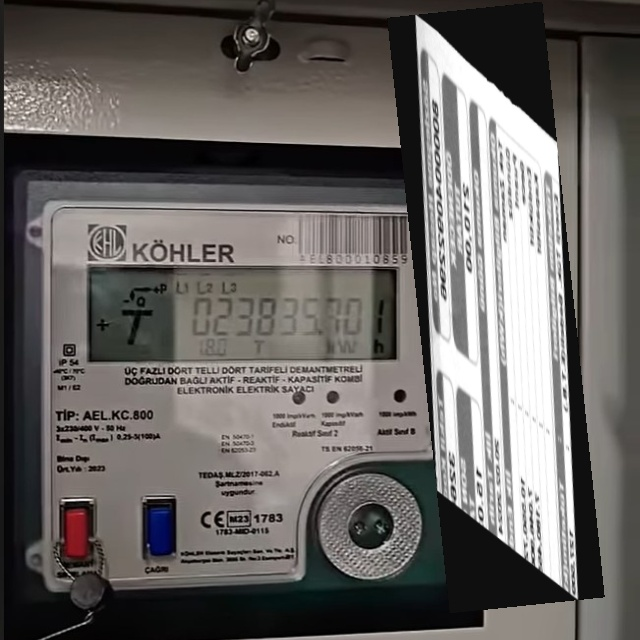electricity-bill: (387, 1, 605, 612)
